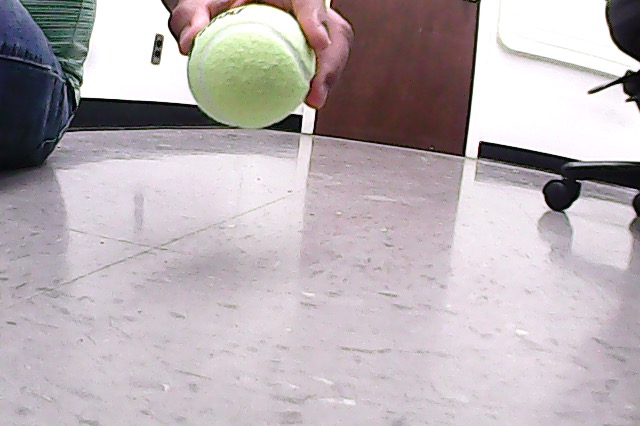ball: (188, 5, 316, 128)
